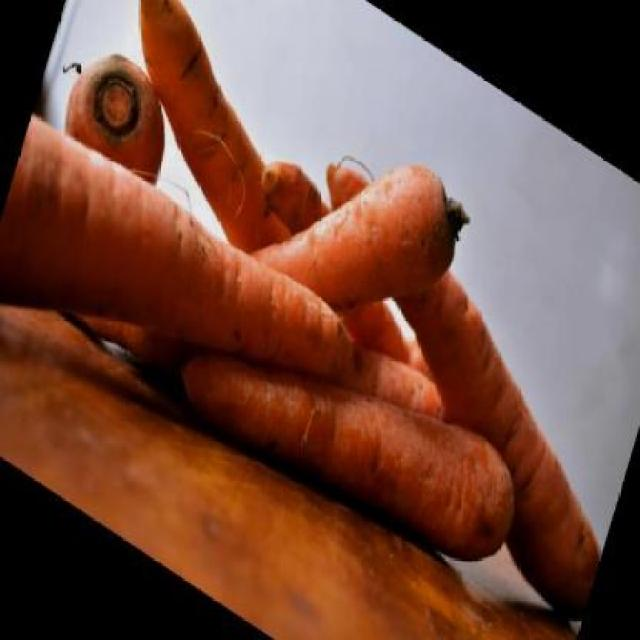carrot: (253, 148, 639, 628), (0, 102, 363, 521), (170, 253, 528, 607), (87, 0, 335, 275), (251, 82, 477, 370), (56, 30, 182, 196), (337, 329, 448, 446), (251, 146, 335, 254)
